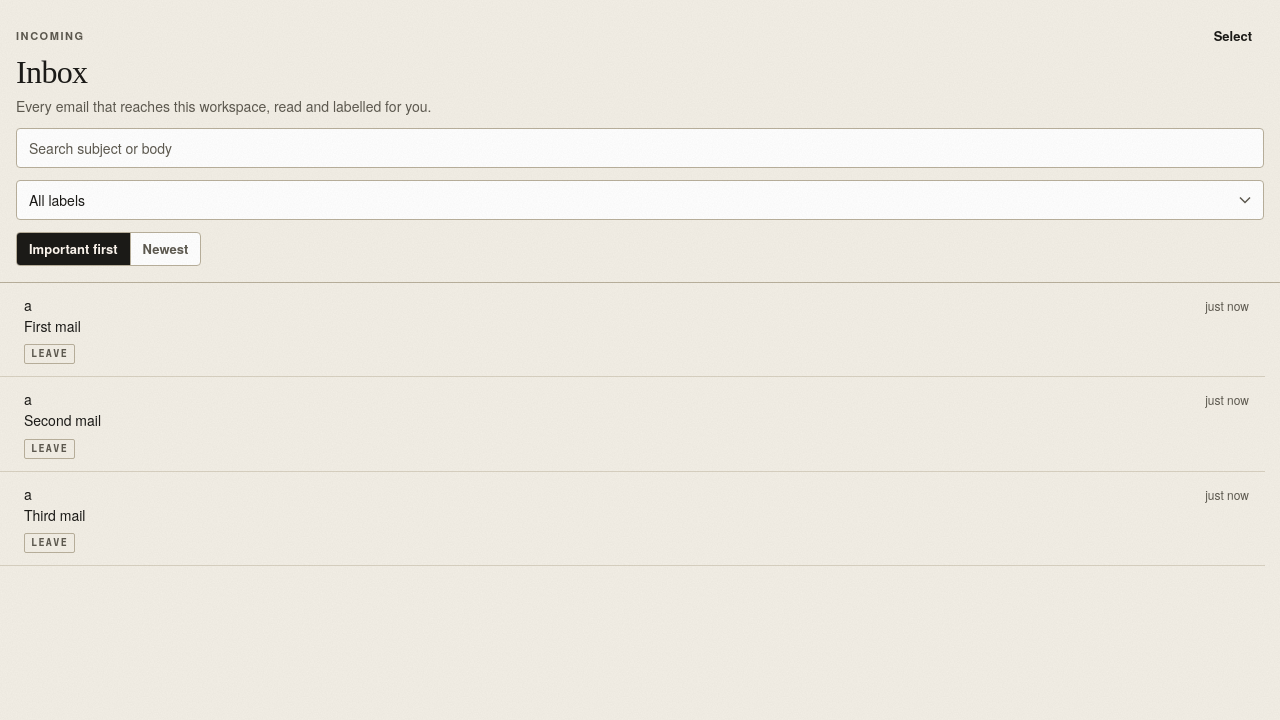
deleting mail › deletes a selection from the inbox after a confirm that says the Gmail copy stays
Expected: the text "First mail" is shown, [24, 317, 81, 336]
Click the button "Select" at (1233, 36), box [1202, 20, 1264, 52]
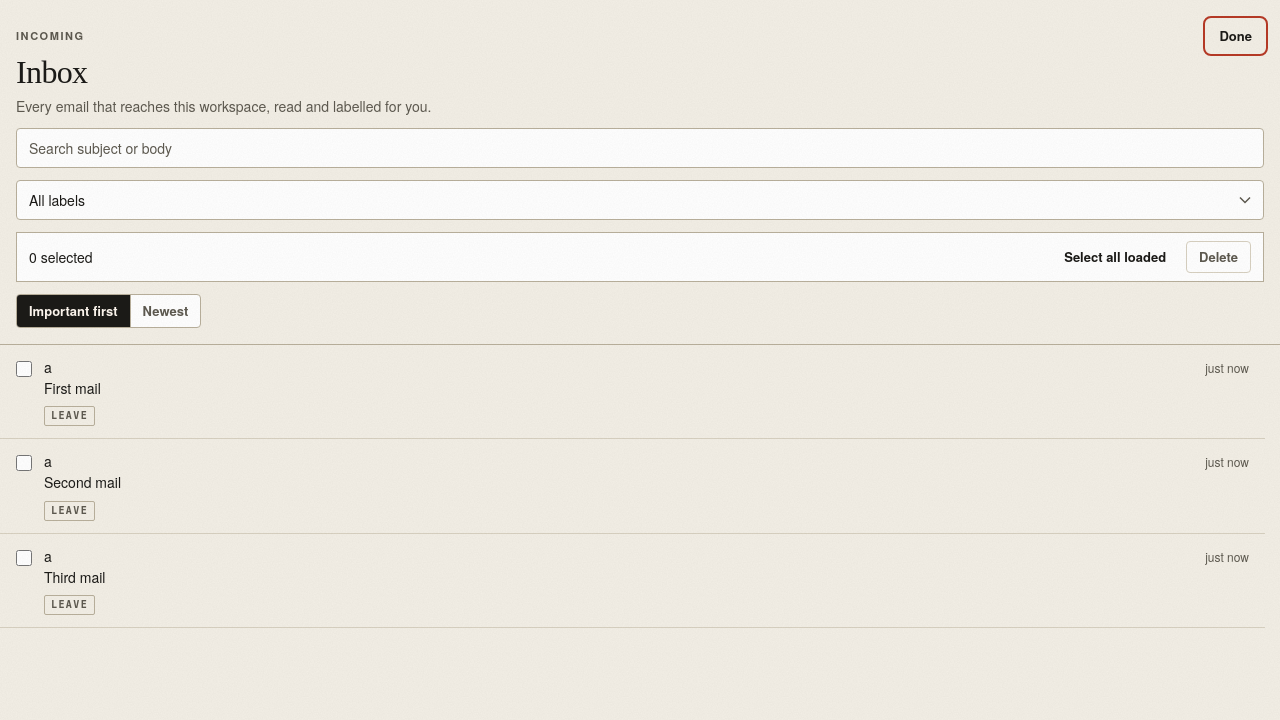
Expected: the button "Delete" is disabled, [1186, 241, 1251, 273]
Click the checkbox named "Select First mail" at (24, 369), box [16, 361, 32, 377]
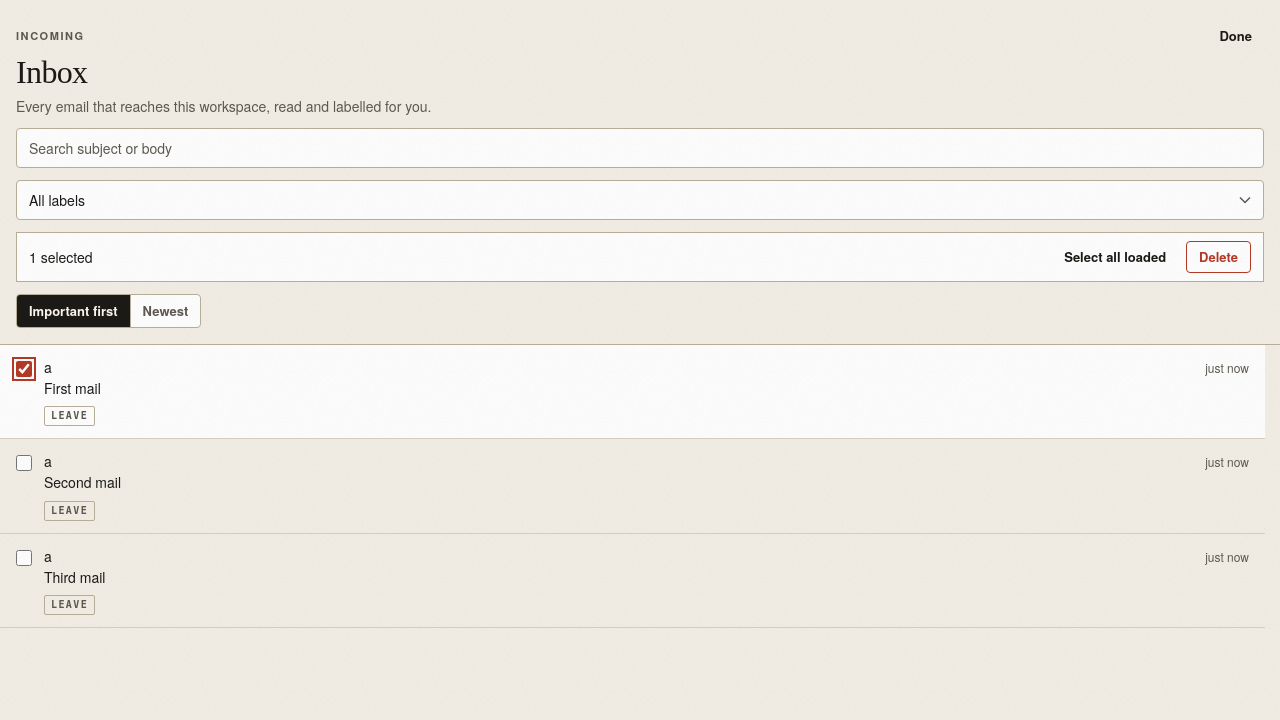
Click the checkbox named "Select Third mail" at (24, 558), box [16, 550, 32, 566]
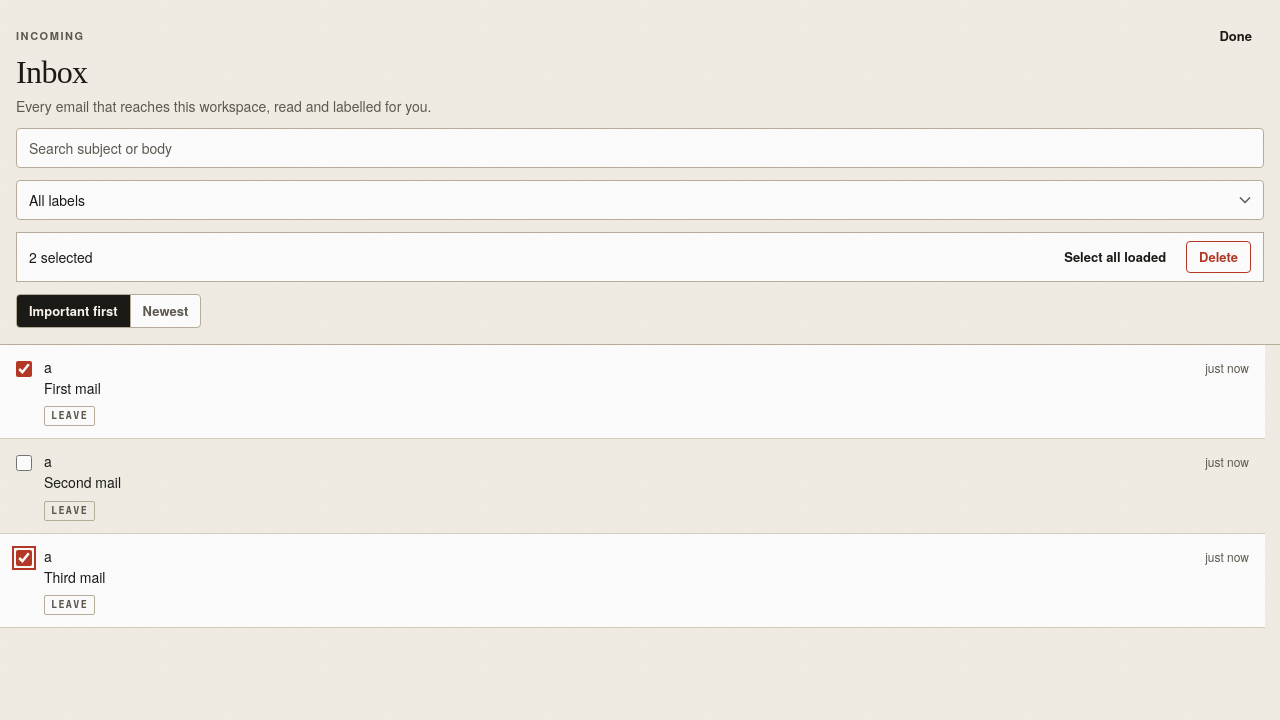
Expected: the text "2 selected" is shown, [29, 247, 93, 267]
Click the button "Delete" at (1219, 257), box [1186, 241, 1251, 273]
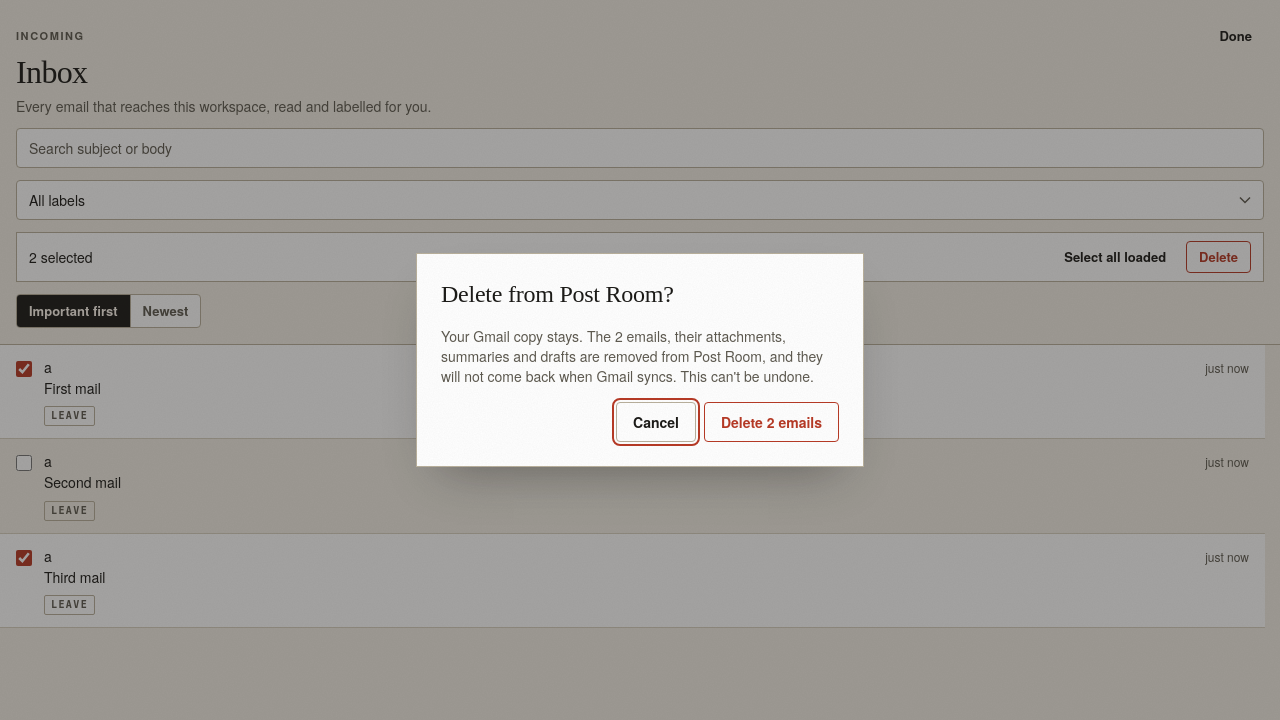
Expected: the text "Your Gmail copy stays" is shown, [441, 326, 583, 346]
Click the button "Delete 2 emails" at (772, 422), box [704, 402, 839, 442]
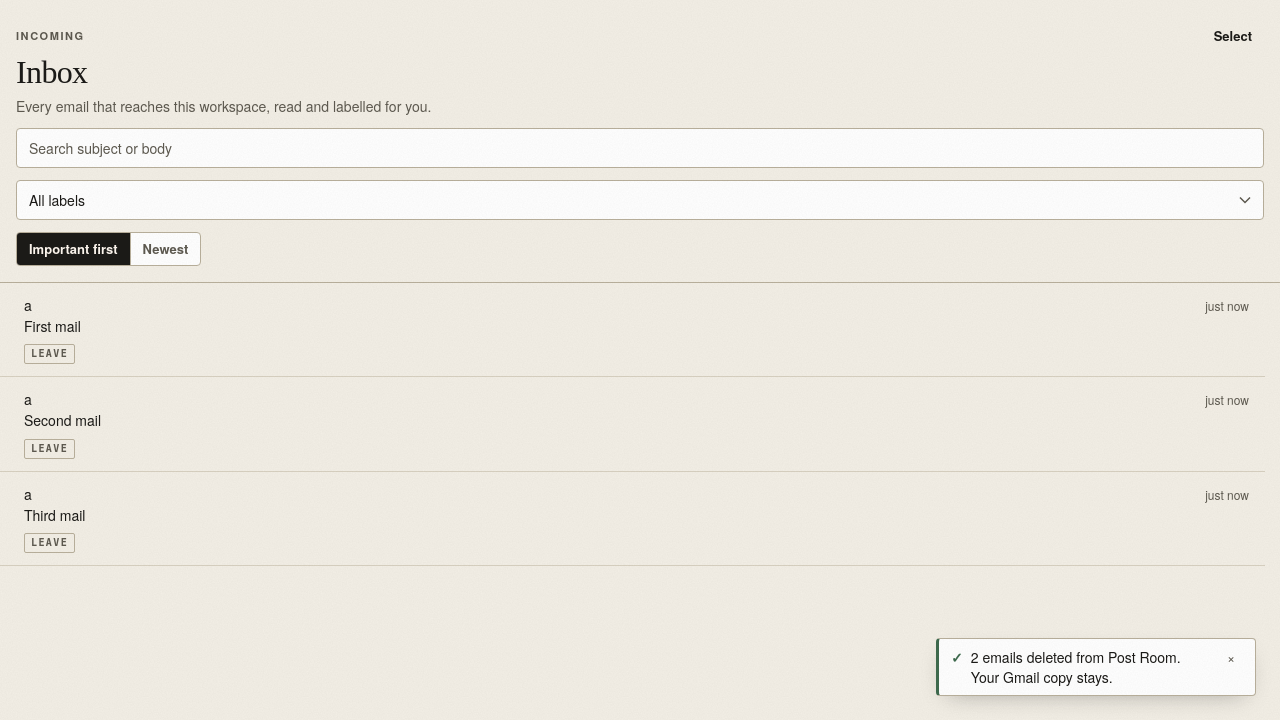
Expected: the dialog is gone
Expected: the text "2 emails deleted from Post Room. Your Gmail copy stays." is shown, [971, 647, 1211, 687]
Expected: the checkbox is gone
